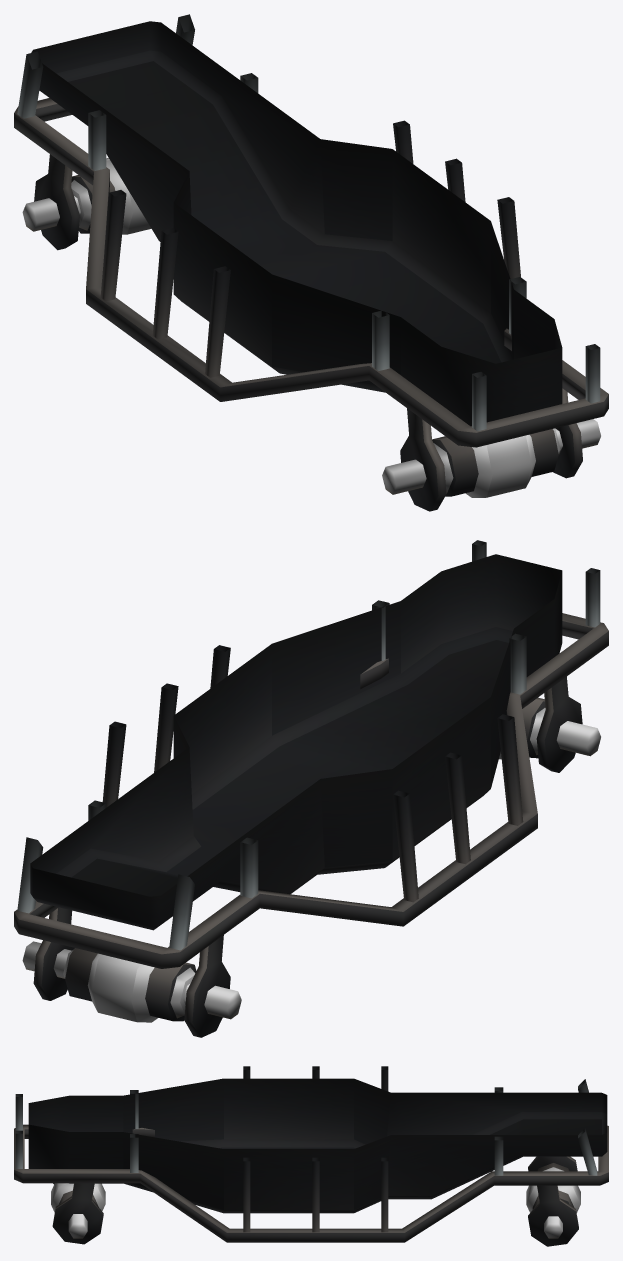
File: RedTruckFrame.fbx
The picture shows the model from 3 angles, top to bottom: view 1: azimuth 30°, elevation 25°; view 2: azimuth 150°, elevation 25°; view 3: azimuth 270°, elevation 25°; orthographic projection. The views are drawn at different scales.
Visible parts, largest first — view 1: RedTruckFrame; view 2: RedTruckFrame; view 3: RedTruckFrame.
Boxes of the visible parts, bbox=[...] form: RedTruckFrame: bbox=[14, 14, 608, 511]; RedTruckFrame: bbox=[14, 540, 608, 1037]; RedTruckFrame: bbox=[14, 1066, 608, 1246].
Bounding box in the file's own units: 2425 × 1301 × 5950.
